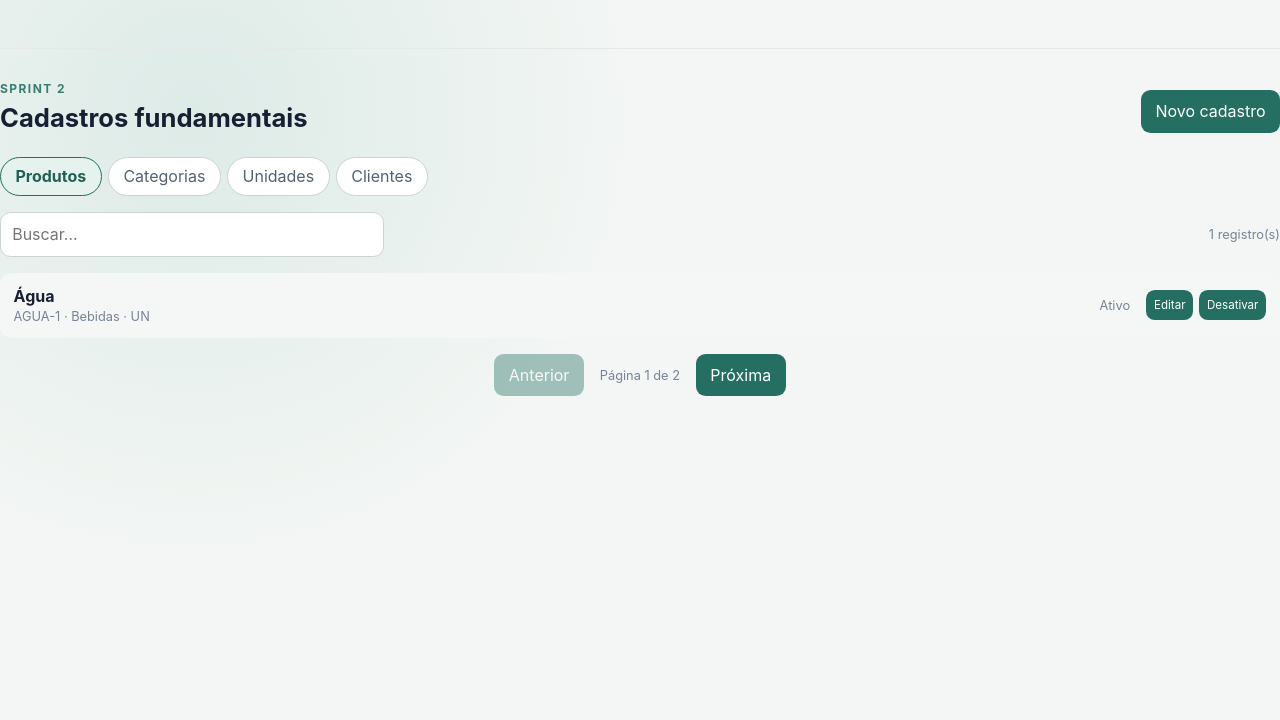
Test: MasterDataPanel › edits prices, clears optional product fields and changes status
Check: the text "AGUA-1 · Bebidas · UN" is shown, box [14,309,150,324]
Type "água" into the field named "Buscar Produtos" at (192, 234), box [0,212,384,257]
Click the button "Próxima" at (741, 375), box [696,354,786,396]
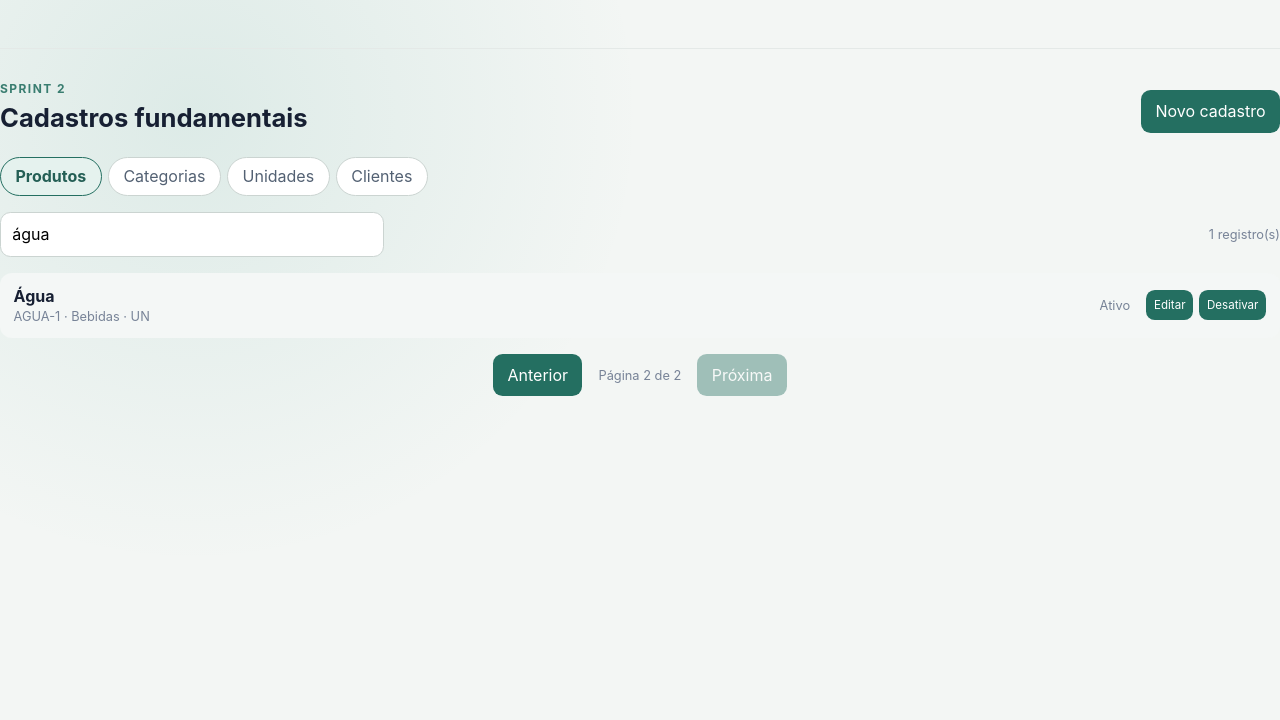
Click the button "Anterior" at (538, 375), box [493,354,582,396]
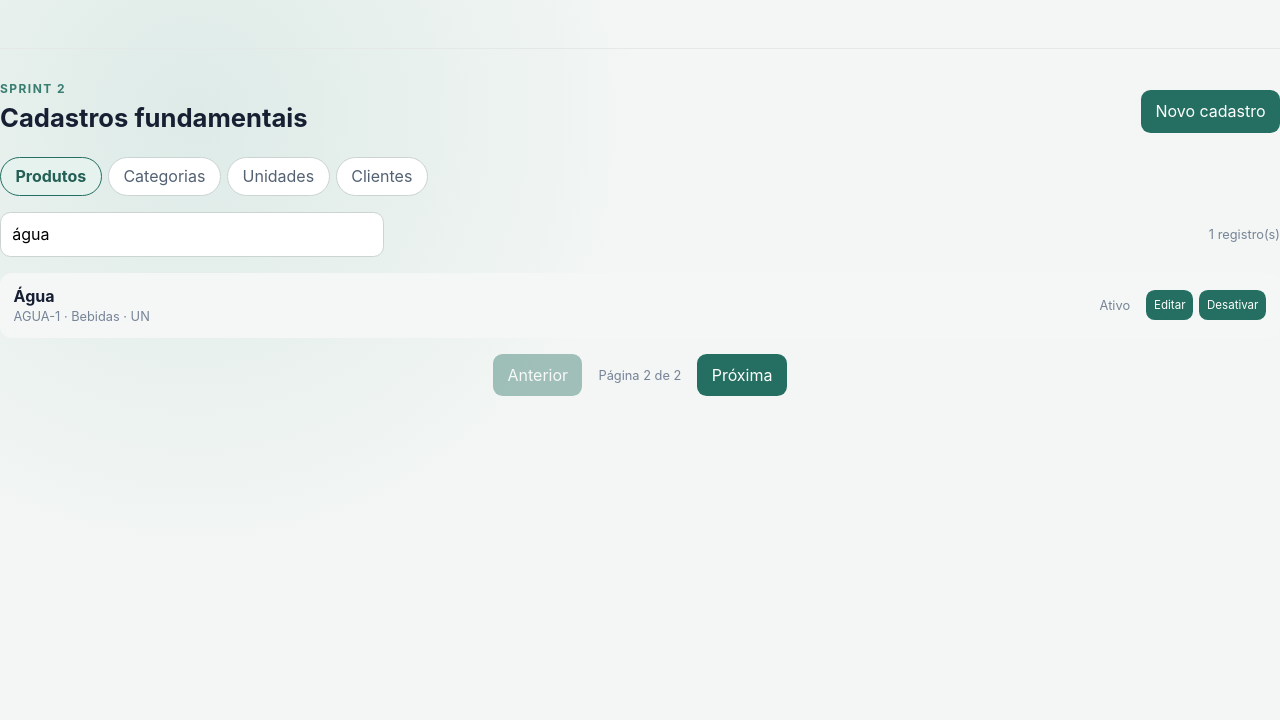
Click the button "Editar" at (1170, 305), box [1146,290,1194,320]
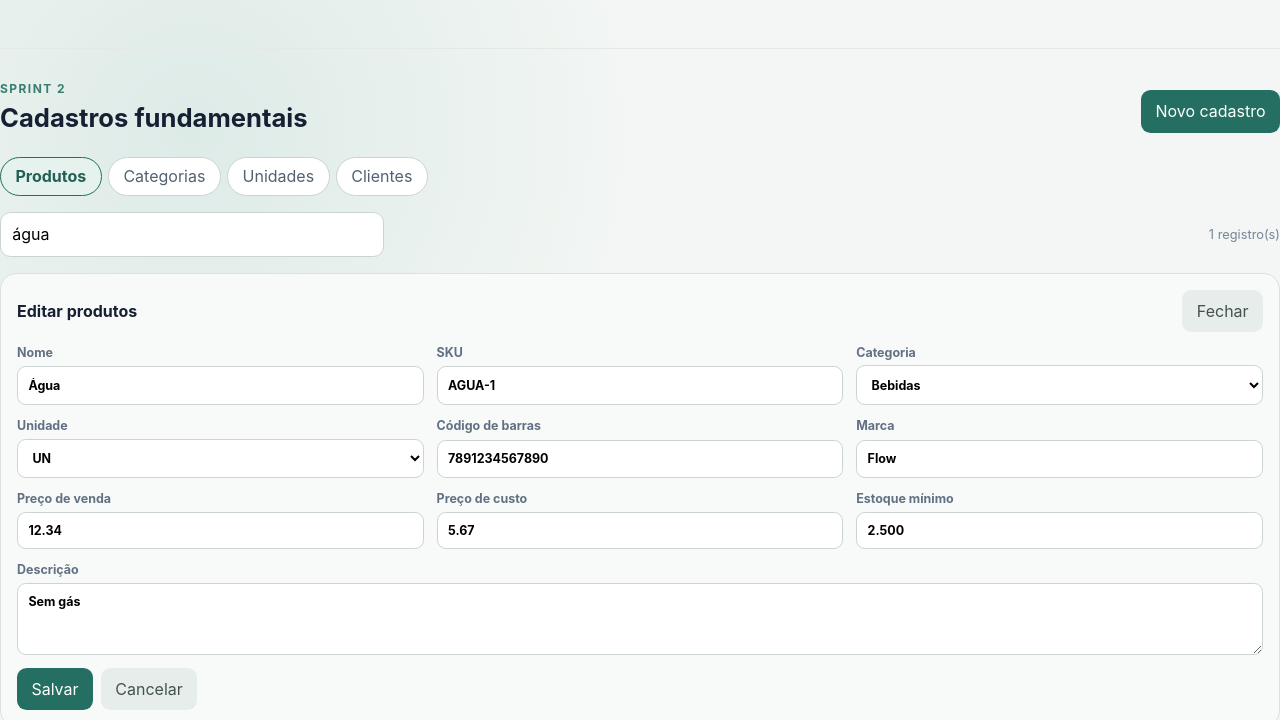
Check: the number field labelled "Preço de venda" holds "12.34", box [17,512,424,550]
Check: the number field labelled "Preço de custo" holds "5.67", box [437,512,843,550]
Clear the text box named "Descrição do produto" at (640, 619), box [17,583,1263,655]
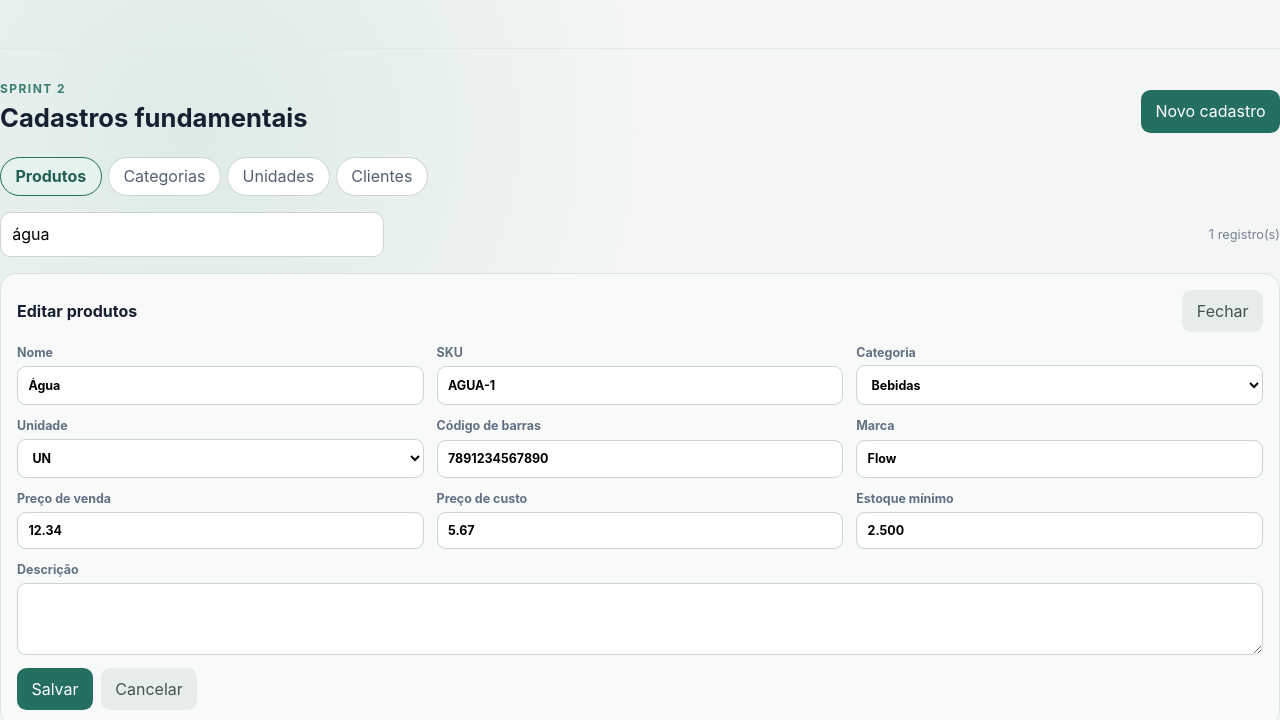
Click the button "Salvar" at (55, 689), box [17,668,93,710]
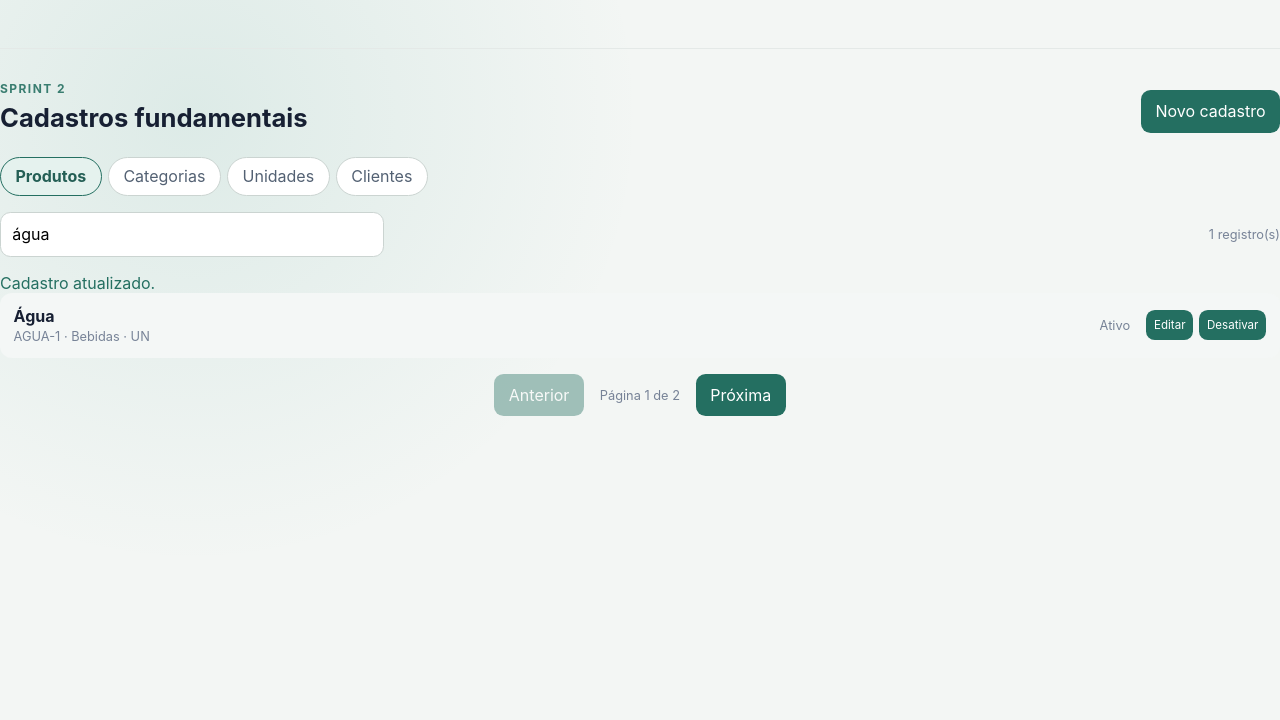
Check: the text "Cadastro atualizado." is shown, box [0,273,155,293]
Click the button "Desativar" at (1233, 325), box [1199,310,1266,340]
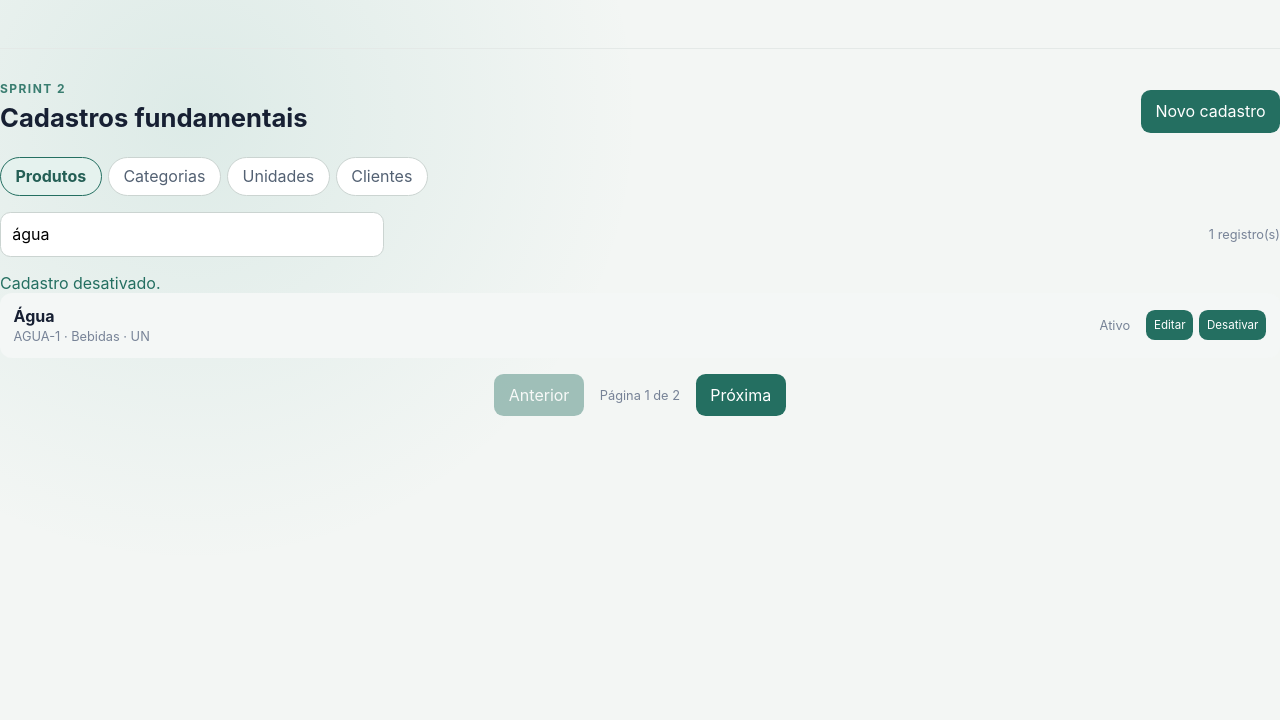
Check: the text "Cadastro desativado." is shown, box [0,273,160,293]
